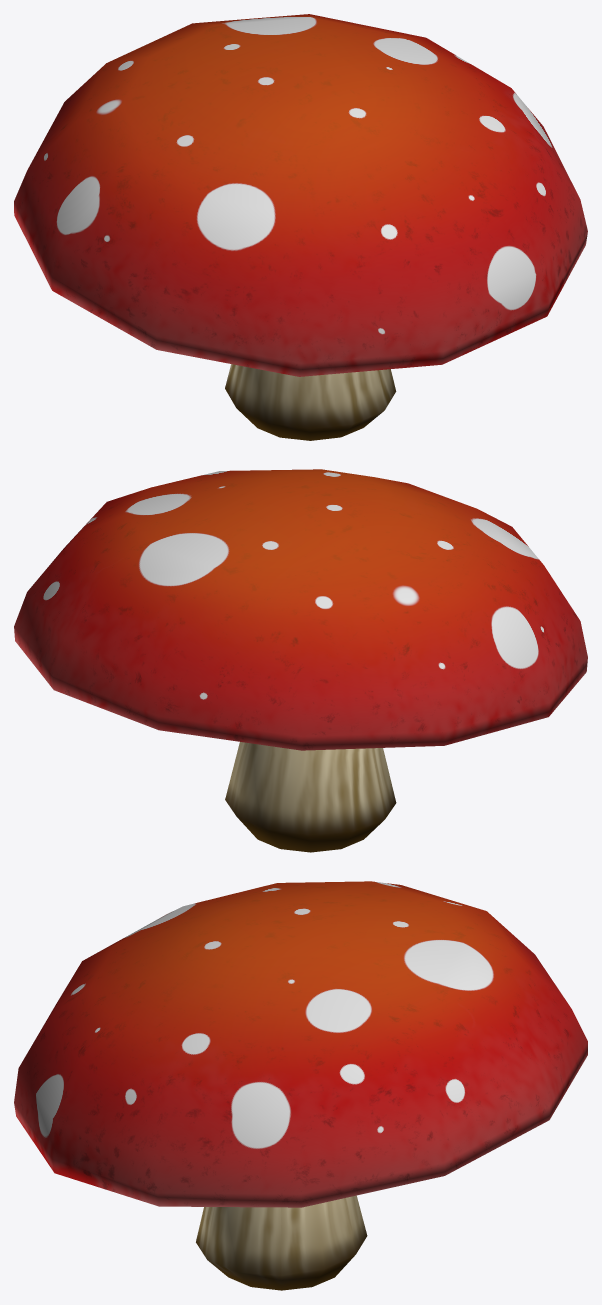
Rendered from Red_Mushroom.fbx.
3 views of the same model, one above another, from view 1: azimuth 30°, elevation 25°; view 2: azimuth 150°, elevation 25°; view 3: azimuth 270°, elevation 25° (orthographic).
Parts seen in each view (by area): view 1: Part_sota_LP2.001; view 2: Part_sota_LP2.001; view 3: Part_sota_LP2.001.
Part boxes in pixels (left/top/right/bottom): Part_sota_LP2.001: left=14, top=14, right=587, bottom=440; Part_sota_LP2.001: left=14, top=469, right=587, bottom=852; Part_sota_LP2.001: left=14, top=881, right=587, bottom=1290.
Size of the model in its own units: 305 by 197 by 303.
